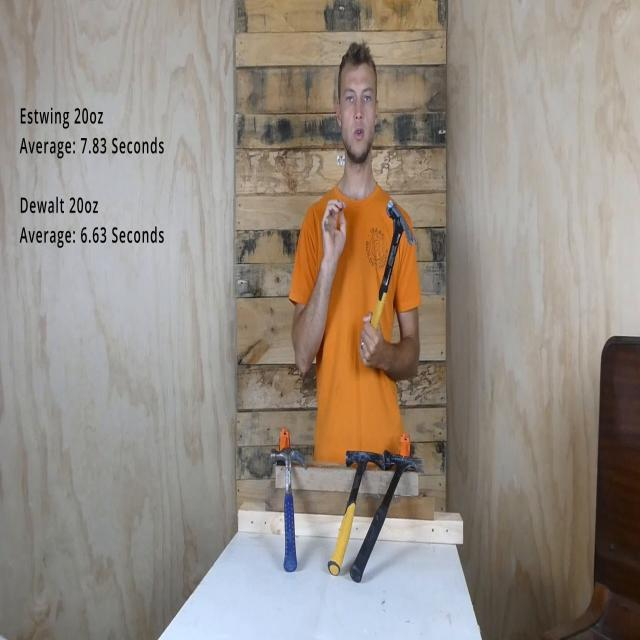hammer: (350, 453, 422, 583), (328, 449, 386, 579), (370, 203, 417, 331), (270, 445, 307, 576)
